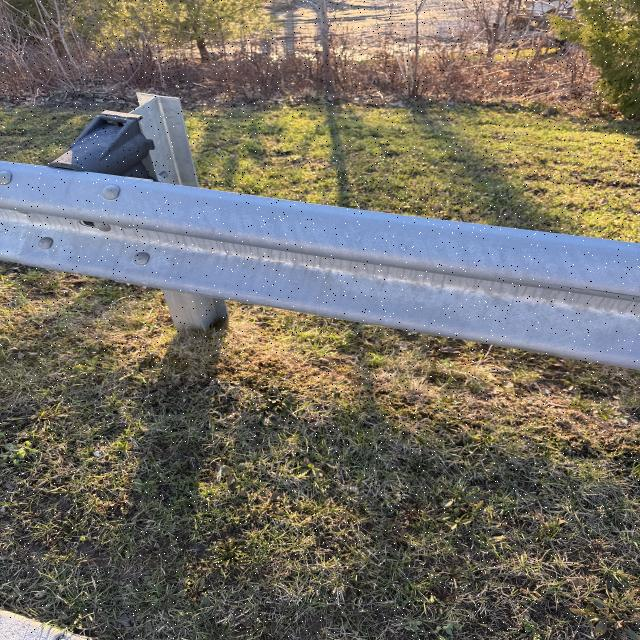Guard rail: (9, 111, 610, 350)
